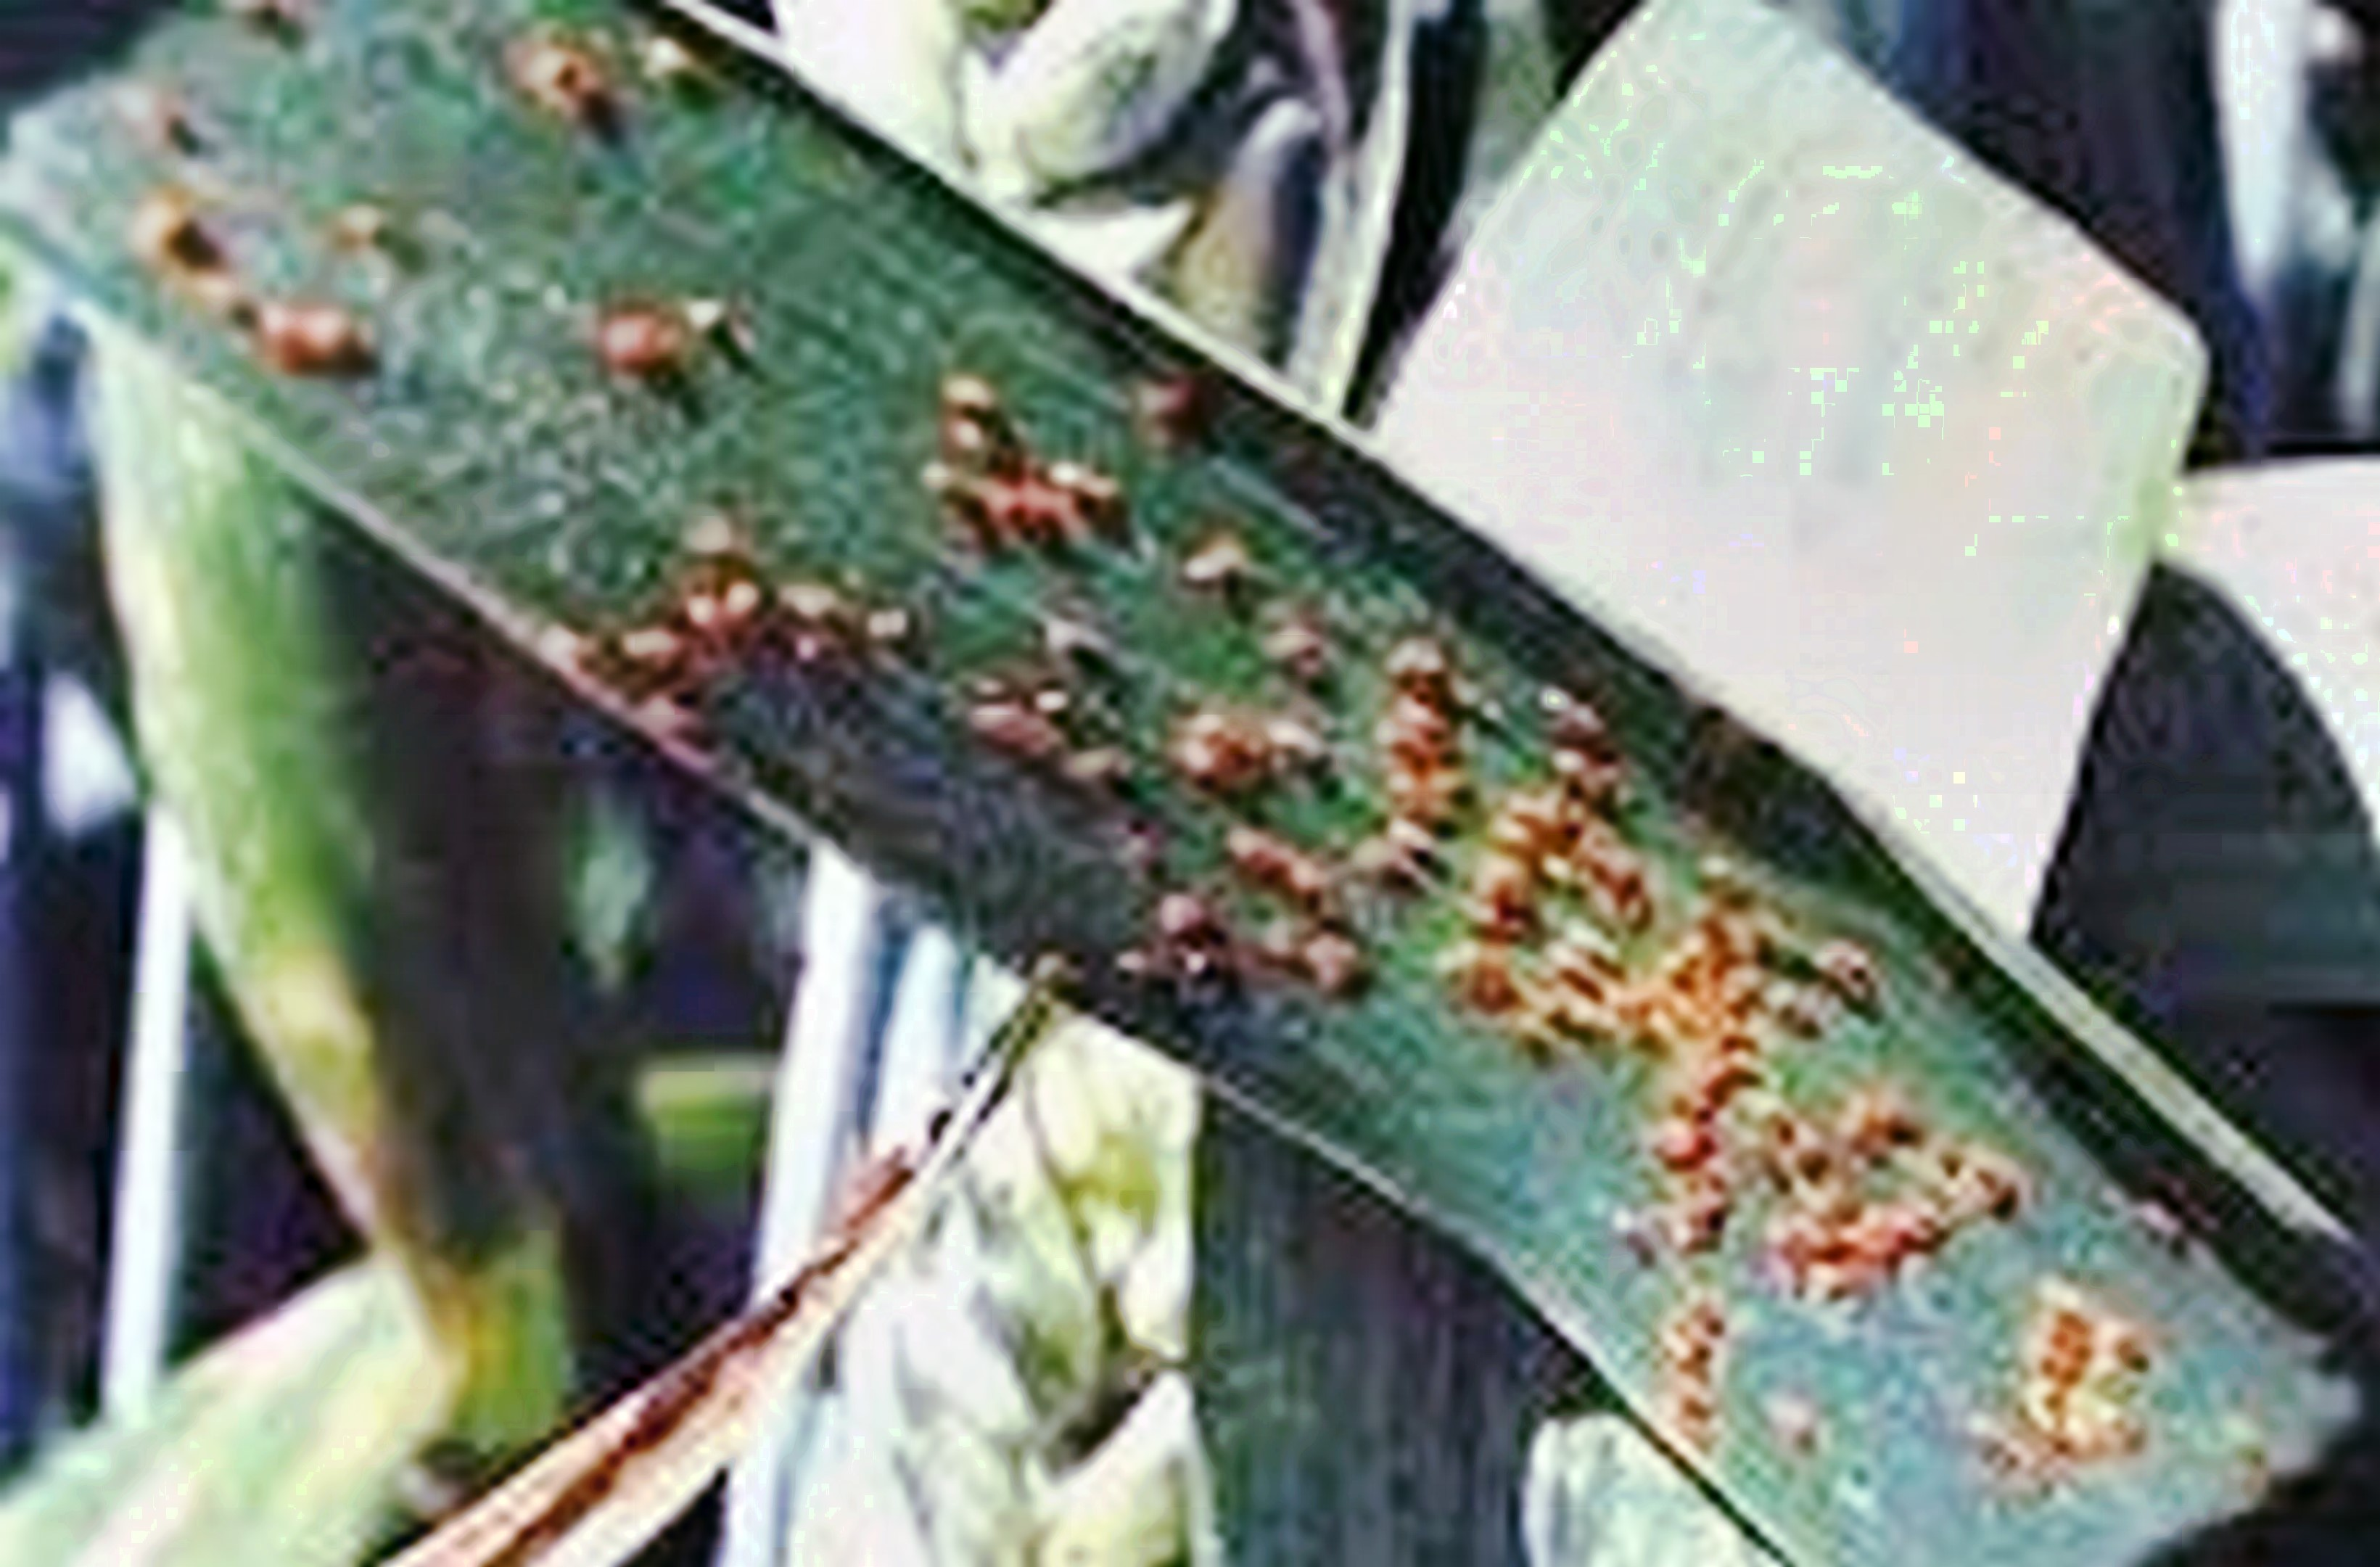Leaf Rust: (757, 423, 2015, 1439)
